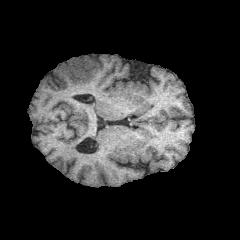glioma: (54, 55, 101, 89)
